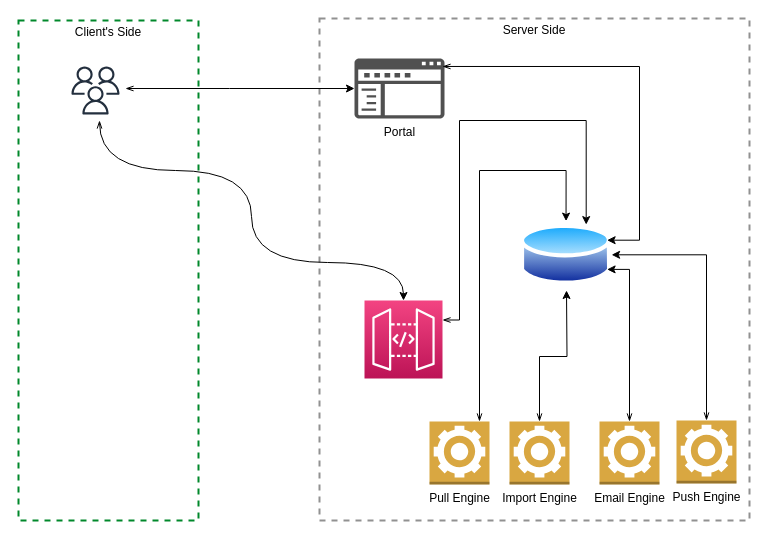
The diagram is 767 pixels wide and 538 high, and some of its shapes have lost their labels. The shapes that lost their labels are listed below. From the top down, each one's centre as x and y in pixels, then its label:
At point 95,90: "Users".
At point 565,254: "Databases".
At point 403,339: "Enriched API".
